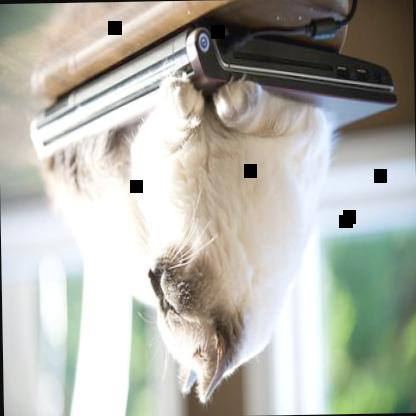cat: (40, 73, 336, 406)
